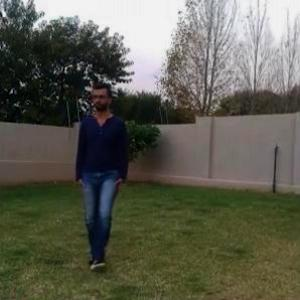follow: (74, 73, 124, 269)
